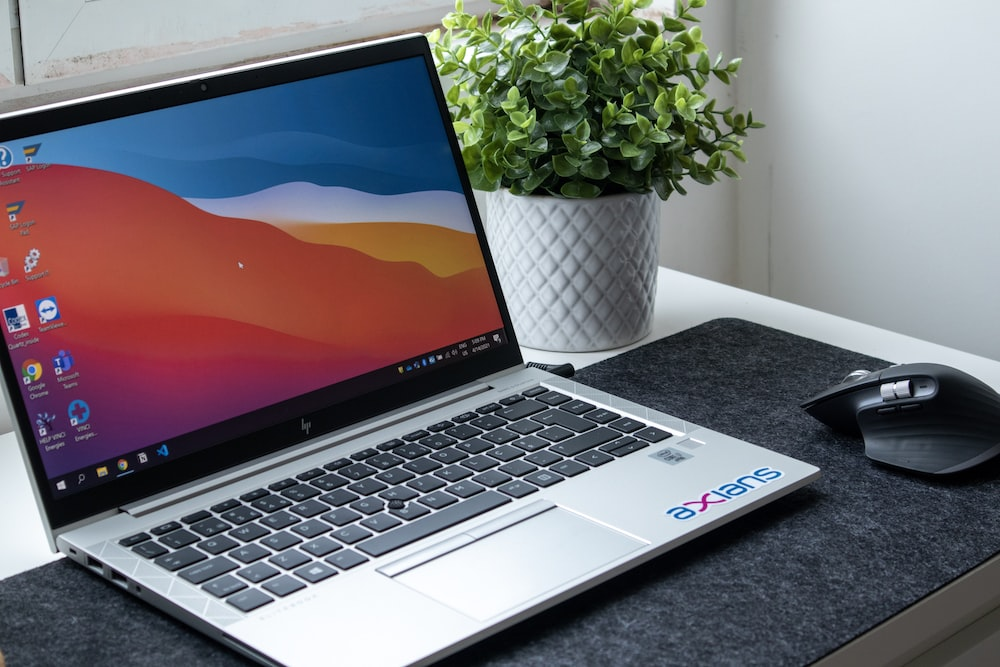laptop: (32, 29, 810, 662)
